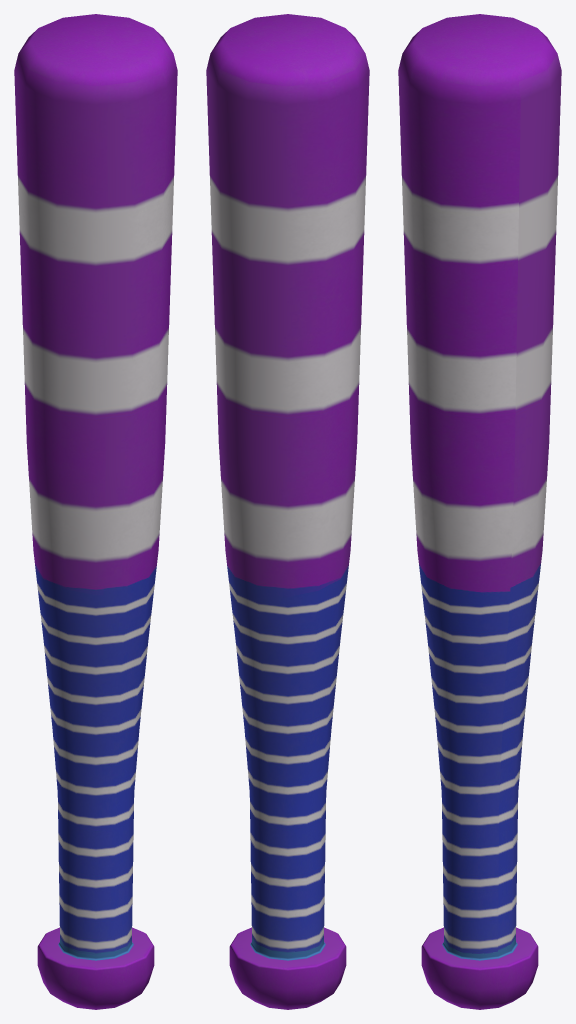
File: GayNangCap_2.fbx
3 renders of one model, left to right at view 1: azimuth 30°, elevation 25°; view 2: azimuth 150°, elevation 25°; view 3: azimuth 270°, elevation 25°, orthographic.
Visible parts, largest first — view 1: GayNangCap_2; view 2: GayNangCap_2; view 3: GayNangCap_2.
Part boxes in pixels (x1,y1,x2,y2): GayNangCap_2: [14, 14, 177, 1009]; GayNangCap_2: [206, 14, 369, 1009]; GayNangCap_2: [398, 14, 561, 1009].
Bounding box in the file's own units: 5.39 × 34.78 × 5.39.
Materials: 1 (1 with a texture image).
